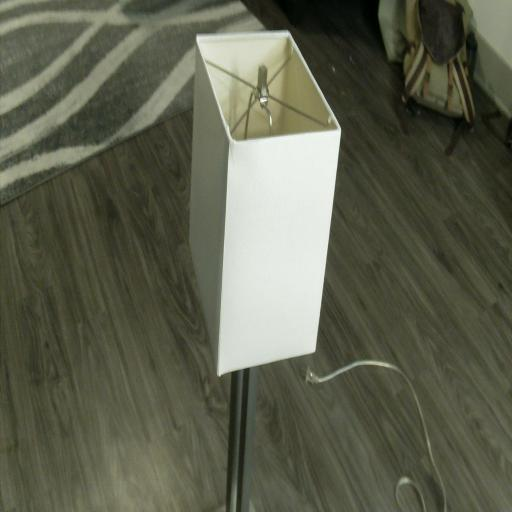lamp: (188, 30, 341, 512)
